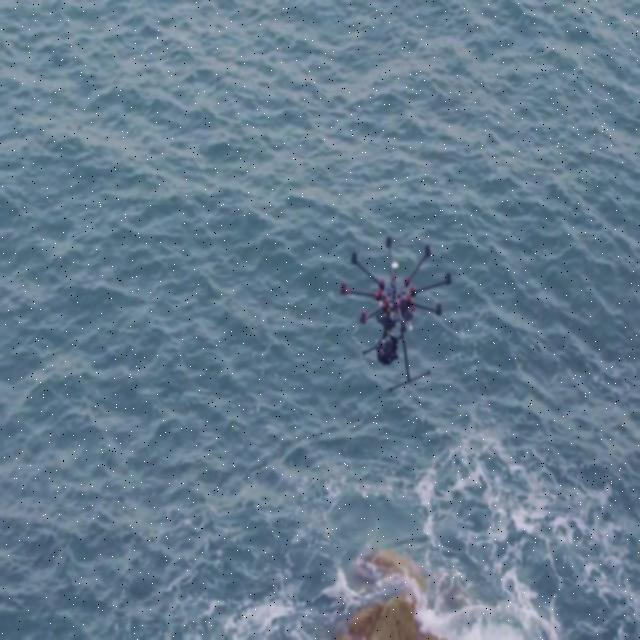UAV: (340, 235, 452, 394)
